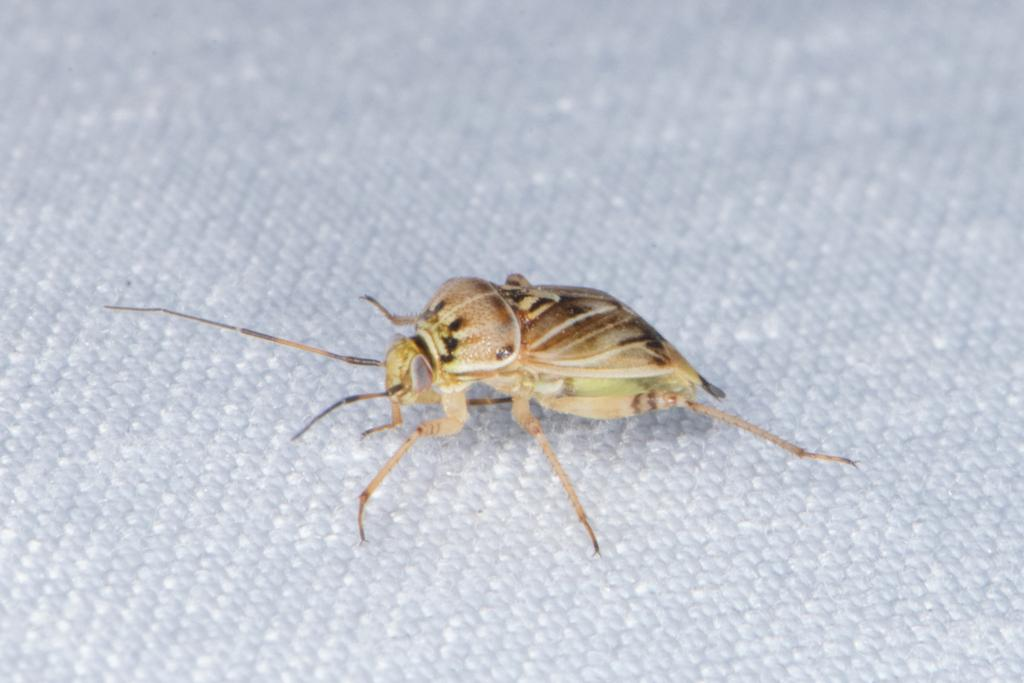plant_bugs: (70, 190, 910, 626)
